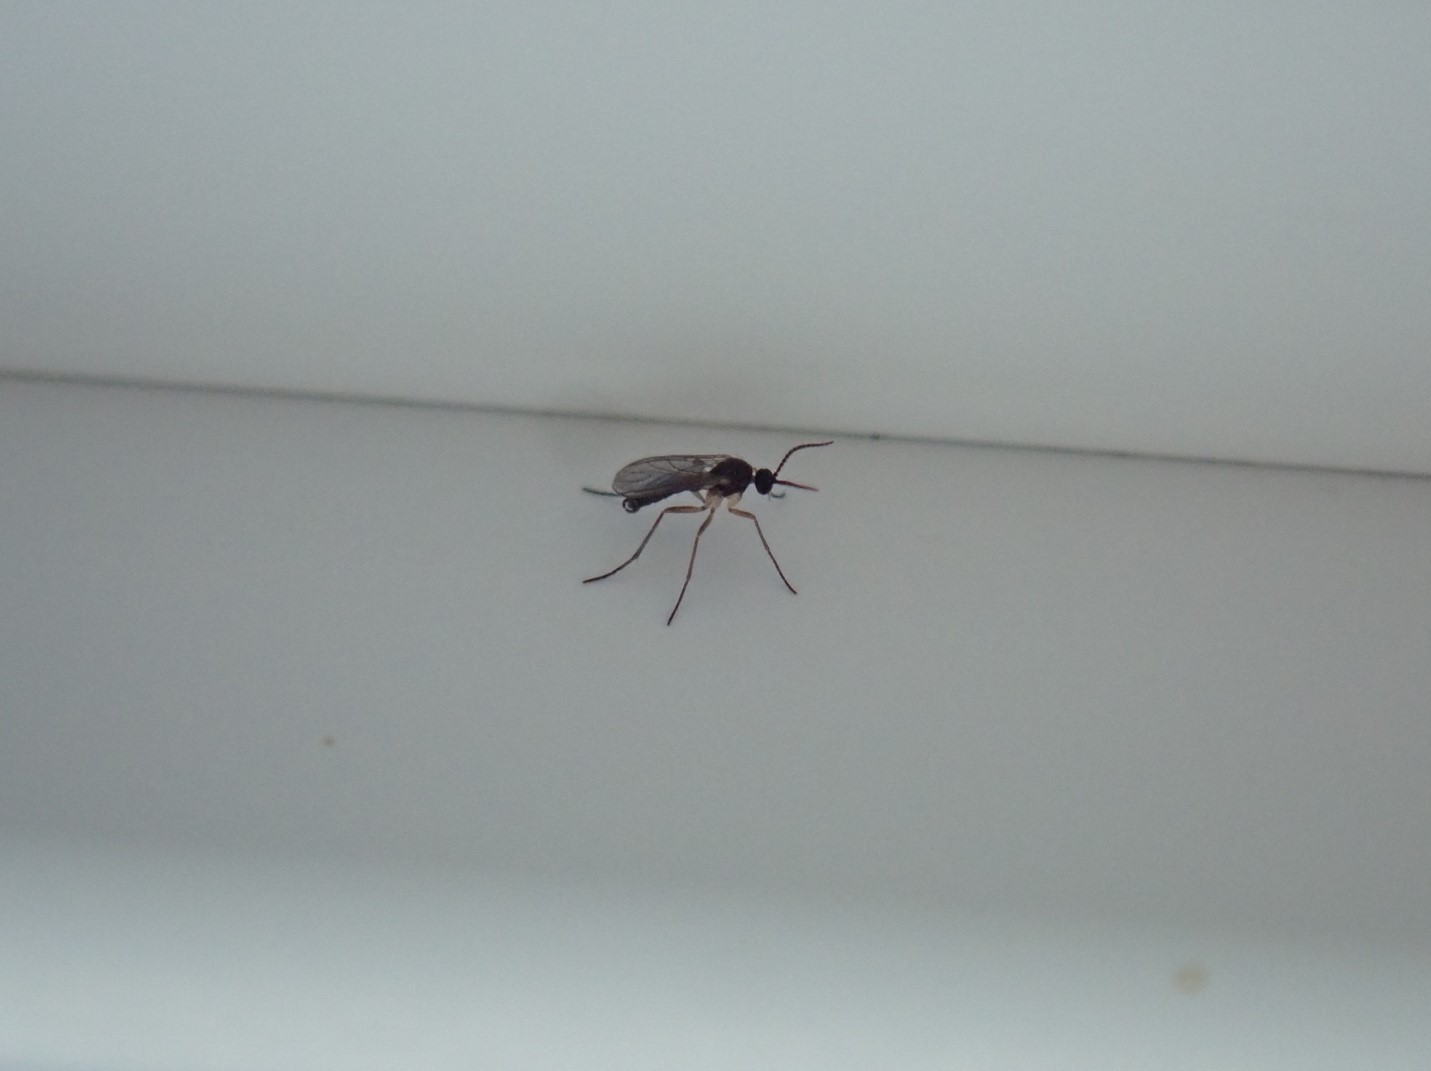Fruit fly: (569, 382, 833, 699)
